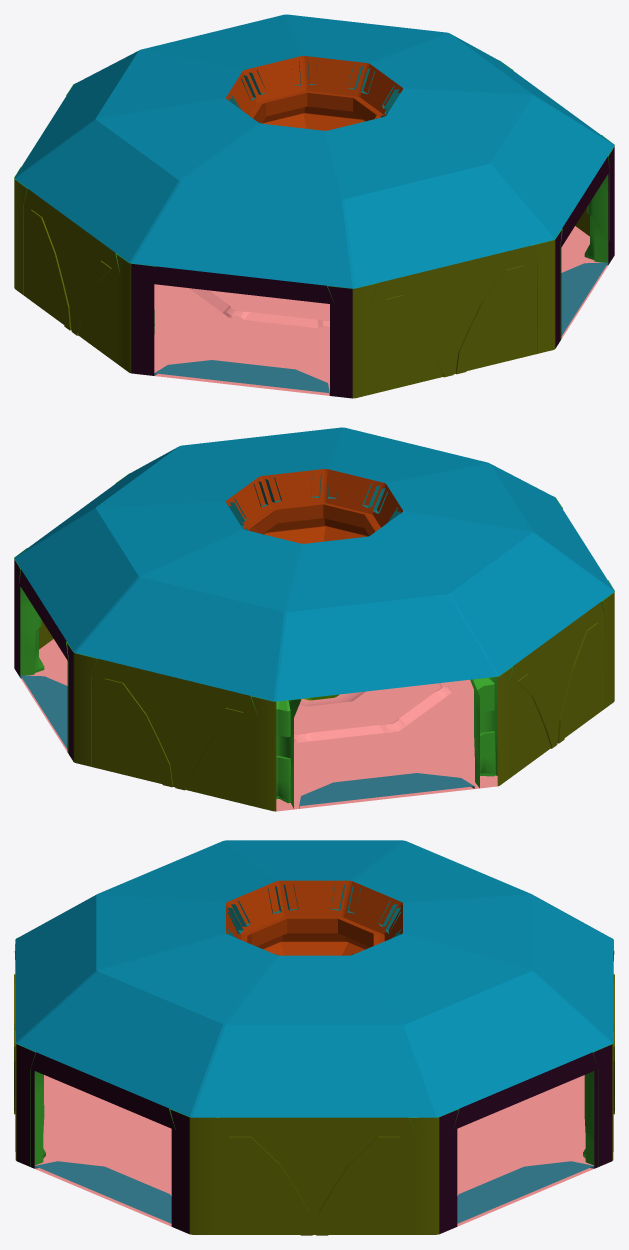
Rendered from NewHall.FBX.
3 renders of one model, top to bottom at view 1: azimuth 30°, elevation 25°; view 2: azimuth 150°, elevation 25°; view 3: azimuth 270°, elevation 25°, orthographic. The views are drawn at different scales.
Visible parts, largest first — view 1: Techo, Pared01, Suelo, Pared03, Pared02, HologramaBottom, Escalon04, Pared08, Escalon03, HologramaFront, Object023, HologramaTop; view 2: Techo, Pared05, Suelo, Pared03, HologramaBottom, Escalon01, Object027, Pared06, Object026, Escalon02, HologramaFront, Object024 (+1 smaller); view 3: Techo, Pared07, Suelo, HologramaBottom, Pared06, Pared08, Escalon02, Escalon03, HologramaFront, Object025, Object022, HologramaTop.
Boxes of the visible parts, box(x1,y1,x2,y2) form: Techo: box(14, 14, 614, 288); Pared01: box(352, 240, 555, 398); Suelo: box(154, 226, 607, 395); Pared03: box(14, 179, 131, 373); Pared02: box(131, 263, 352, 398); HologramaBottom: box(226, 56, 402, 130); Escalon04: box(154, 360, 329, 395); Pared08: box(555, 147, 614, 348); Escalon03: box(561, 262, 608, 336); HologramaFront: box(255, 92, 376, 122); Object023: box(584, 135, 614, 262); HologramaTop: box(262, 106, 365, 123); Techo: box(14, 427, 614, 701); Pared05: box(73, 653, 276, 811); Suelo: box(21, 639, 497, 811); Pared03: box(497, 592, 614, 786); HologramaBottom: box(226, 469, 402, 543); Escalon01: box(299, 773, 474, 808); Object027: box(470, 666, 513, 787); Pared06: box(14, 559, 73, 761); Object026: box(250, 696, 301, 808); Escalon02: box(20, 675, 67, 749); HologramaFront: box(254, 504, 375, 535); Object024: box(14, 548, 44, 675); Techo: box(15, 840, 613, 1117); Pared07: box(189, 1117, 439, 1235); Suelo: box(35, 1075, 593, 1226); HologramaBottom: box(226, 880, 402, 955); Pared06: box(439, 1044, 612, 1234); Pared08: box(16, 1044, 189, 1234); Escalon02: box(457, 1161, 594, 1223); Escalon03: box(34, 1161, 171, 1223); HologramaFront: box(251, 918, 373, 946); Object025: box(583, 1031, 614, 1166); Object022: box(14, 1031, 45, 1166); HologramaTop: box(256, 933, 370, 949).
Size of the model in its own units: 3716 by 1309 by 3716.
